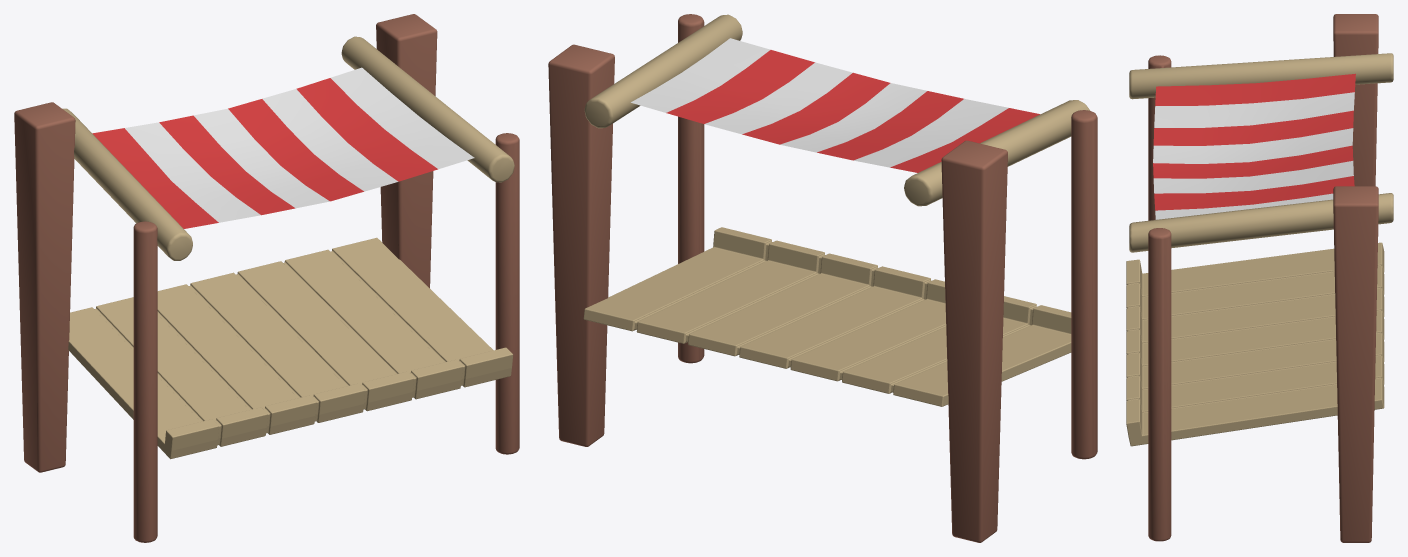
File: stand.fbx
3 views of the same model, side by side, from view 1: azimuth 30°, elevation 25°; view 2: azimuth 150°, elevation 25°; view 3: azimuth 270°, elevation 25° (orthographic). The views are drawn at different scales.
Parts seen in each view (by area): view 1: tezgah; view 2: tezgah; view 3: tezgah.
Boxes of the visible parts, x1,y1,x2,y2 form: tezgah: (14, 14, 519, 542); tezgah: (548, 14, 1097, 542); tezgah: (1126, 14, 1393, 542).
Size of the model in its own units: 0.9872 by 0.8237 by 0.5825.
